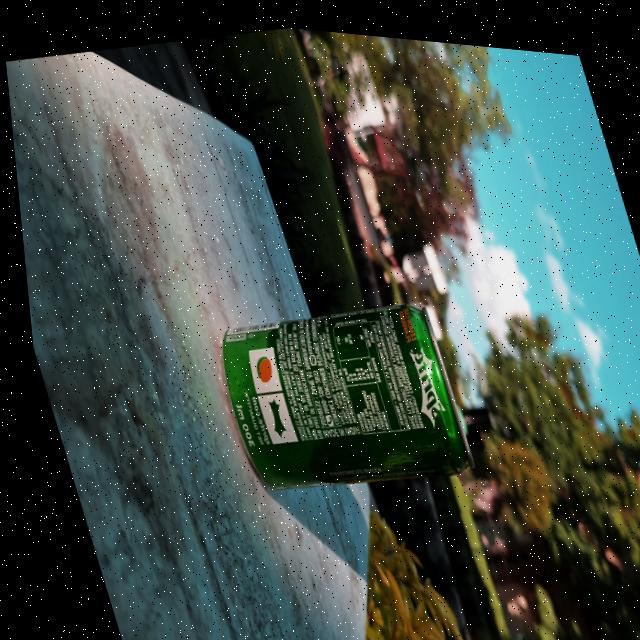Sprite: (202, 281, 470, 511)
